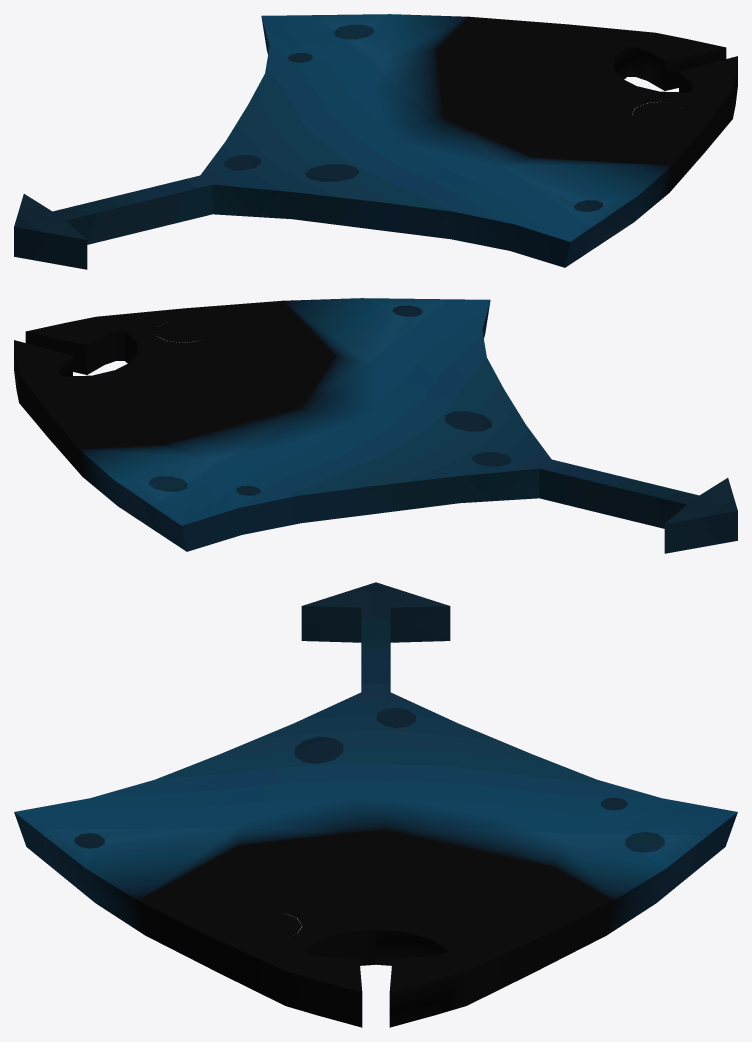
The model's file is Mantaray.glb.
3 views of the same model, one above another, from view 1: azimuth 30°, elevation 25°; view 2: azimuth 150°, elevation 25°; view 3: azimuth 270°, elevation 25° (orthographic). The views are drawn at different scales.
Visible parts, largest first — view 1: Mantaray; view 2: Mantaray; view 3: Mantaray.
Part boxes in pixels (left/top/right/bottom): Mantaray: left=14, top=14, right=737, bottom=269; Mantaray: left=14, top=298, right=737, bottom=553; Mantaray: left=14, top=582, right=737, bottom=1027.
Bounding box in the file's own units: 10.82 × 0.4289 × 8.06.
Materials: 1 (1 with a texture image).
